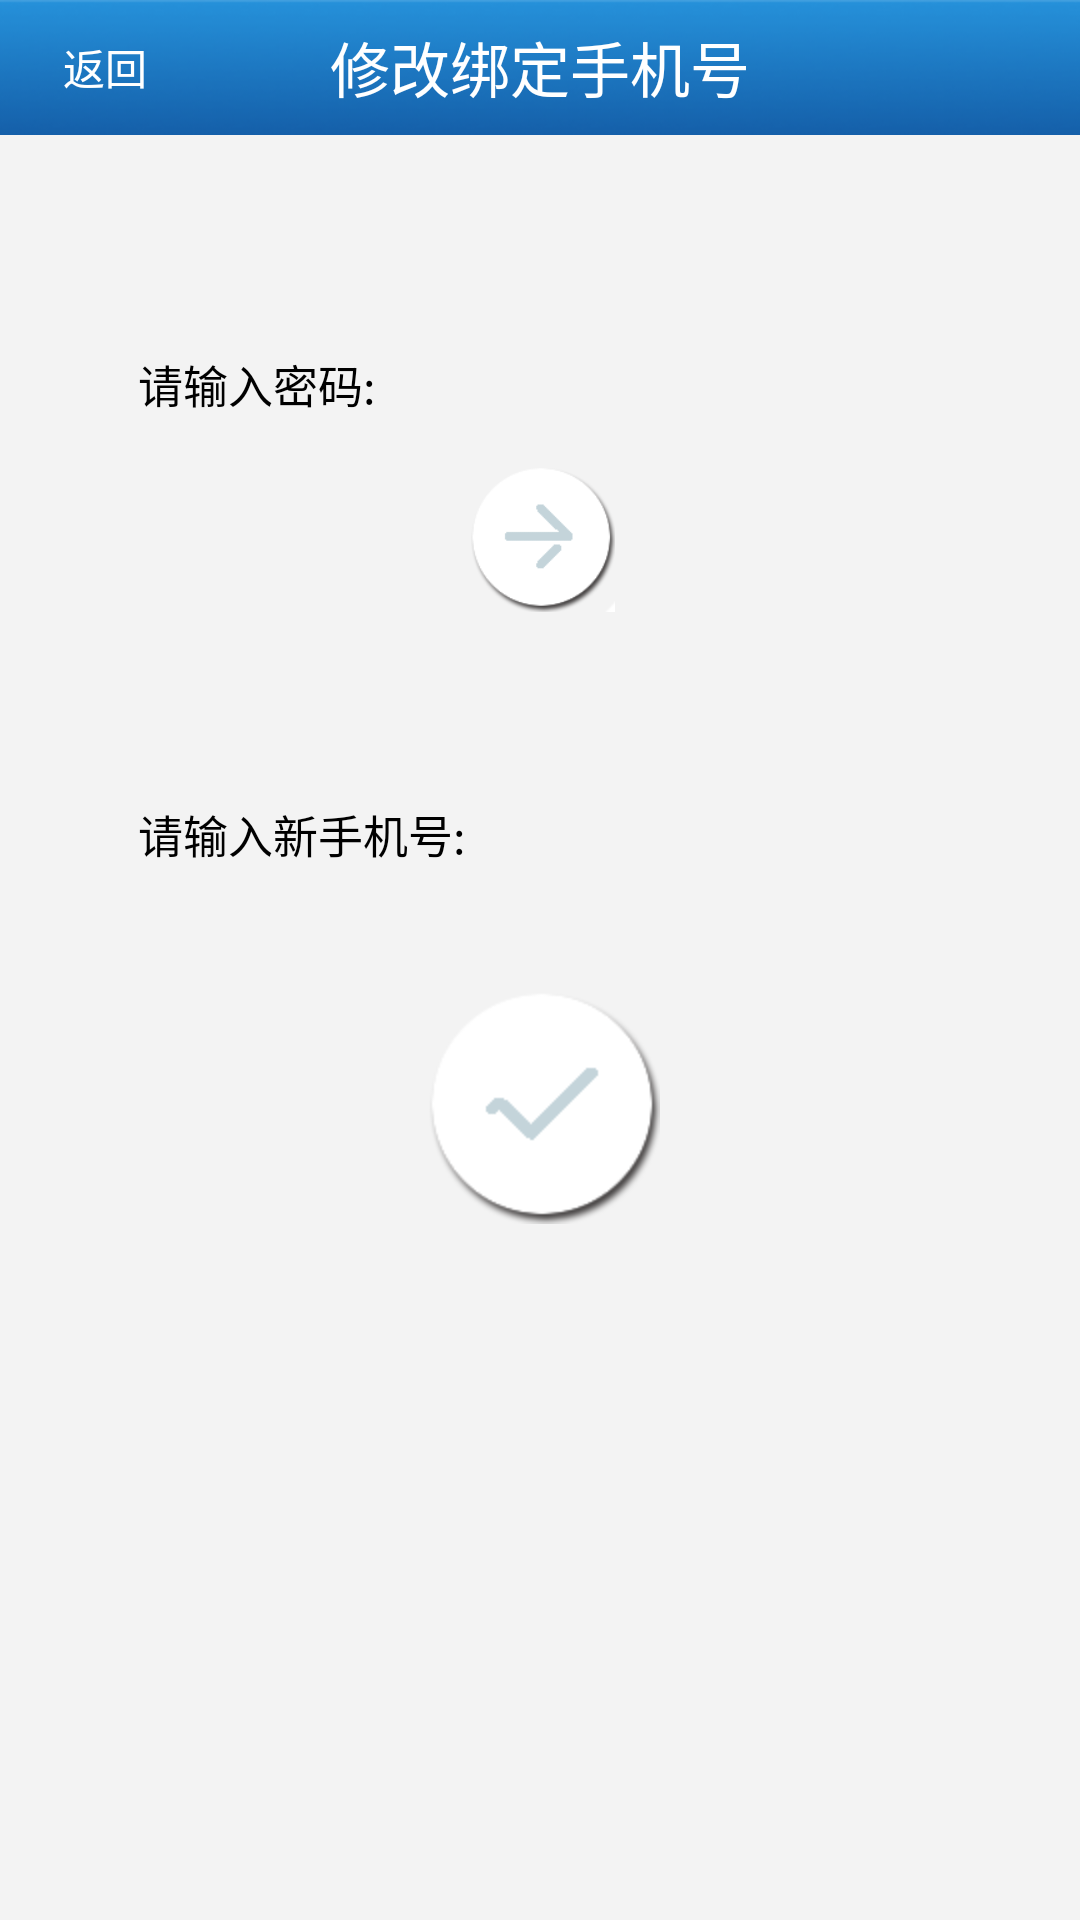

Icons on this 1080w x 1920h Android screen, each with its box as detection(x1, y1, x2, y2):
tabs confirm: detection(431, 994, 660, 1224)
tabs next: detection(472, 468, 615, 612)
